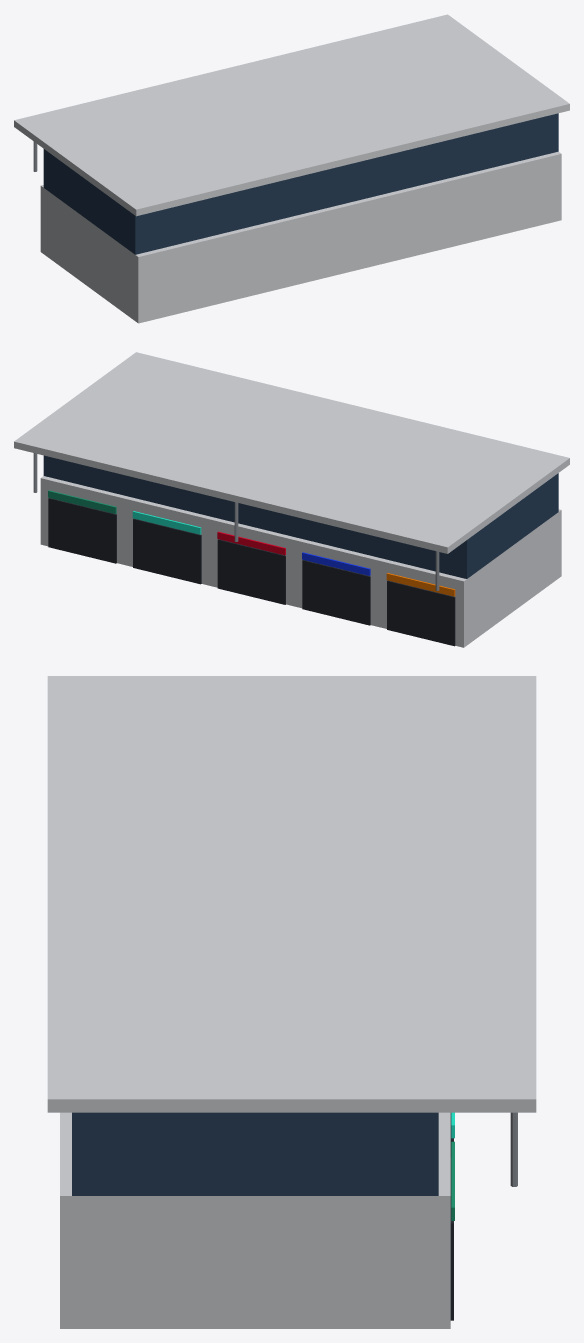
File: pit-building.glb
The picture shows the model from 3 angles, top to bottom: view 1: azimuth 30°, elevation 25°; view 2: azimuth 150°, elevation 25°; view 3: azimuth 270°, elevation 25°; orthographic projection. The views are drawn at different scales.
Parts seen in each view (by area): view 1: pit-building; view 2: pit-building; view 3: pit-building.
Boxes of the visible parts, bbox=[...] form: pit-building: bbox=[14, 14, 569, 323]; pit-building: bbox=[14, 352, 569, 647]; pit-building: bbox=[47, 676, 536, 1328].
Size of the model in its own units: 41 by 10.6 by 20.
